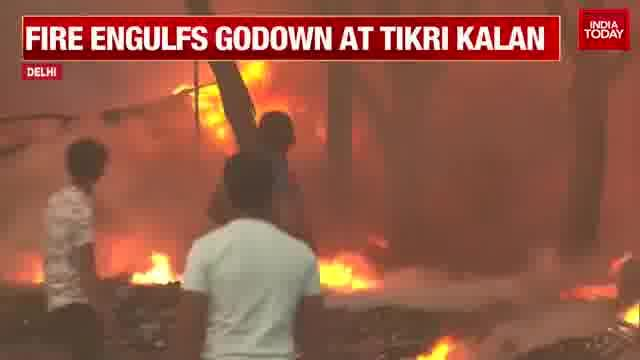fire: (185, 81, 273, 129), (316, 260, 369, 290), (138, 256, 174, 284)
